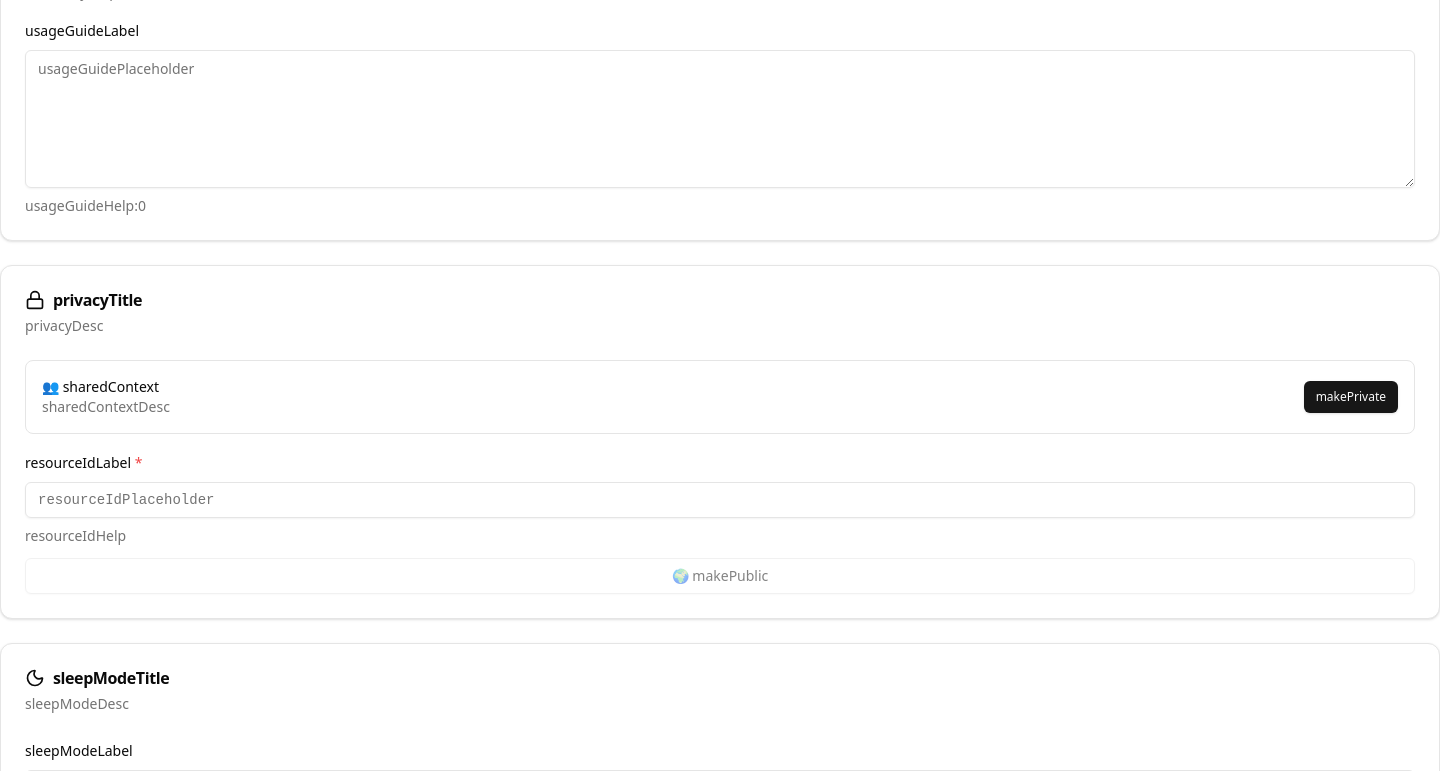
Test: SettingsTabPanel — privacy transition dialog › opens makePrivateTitle dialog when toggling from shared → private
The width and height of the screenshot is (1440, 771).
(page scrolled)
expect the text "makePrivateTitle" is not shown: met
Click the button "makePrivate" at (1351, 397), box [1304, 381, 1398, 413]
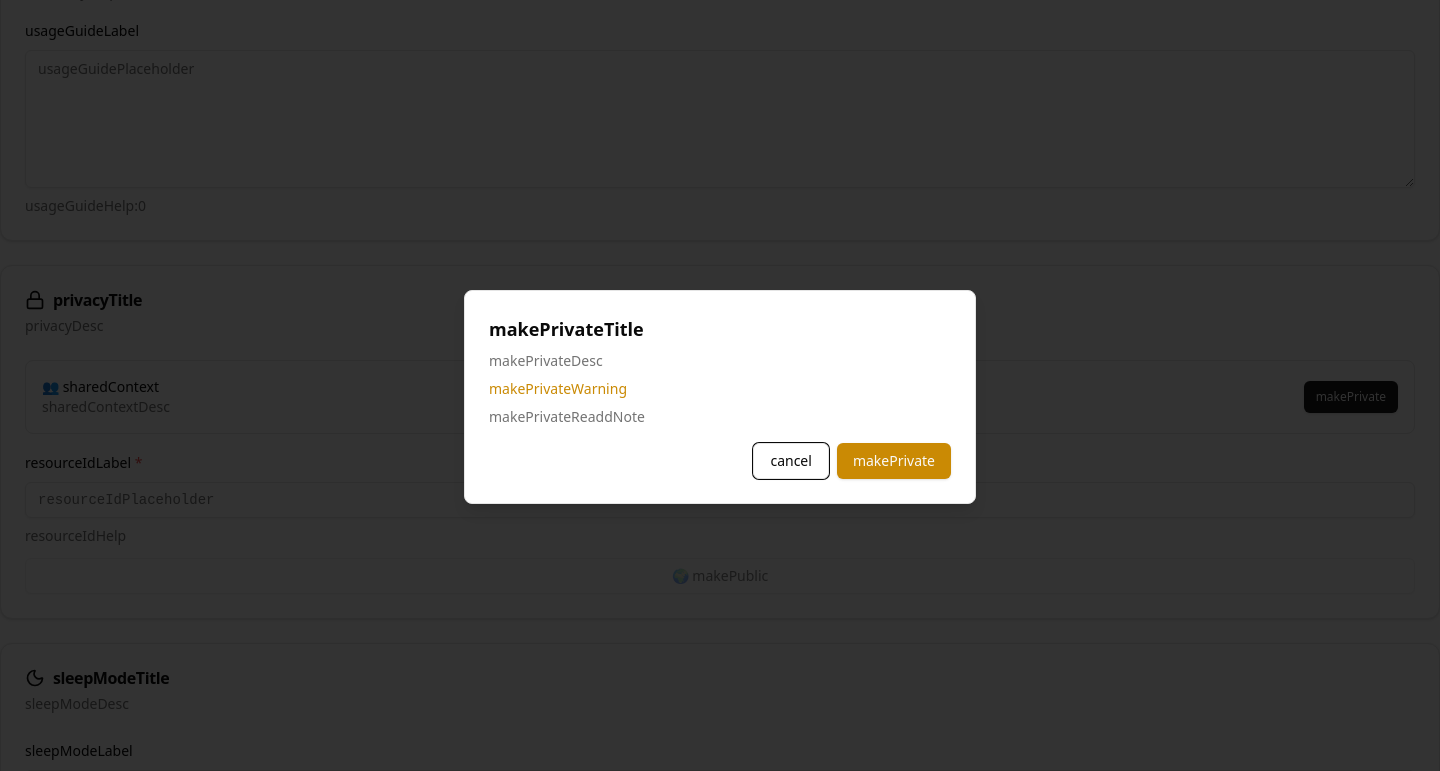
expect the heading "makePrivateTitle" is shown: met, box [489, 317, 644, 341]
expect the text "makePrivateWarning" is shown: met, box [489, 379, 627, 398]
